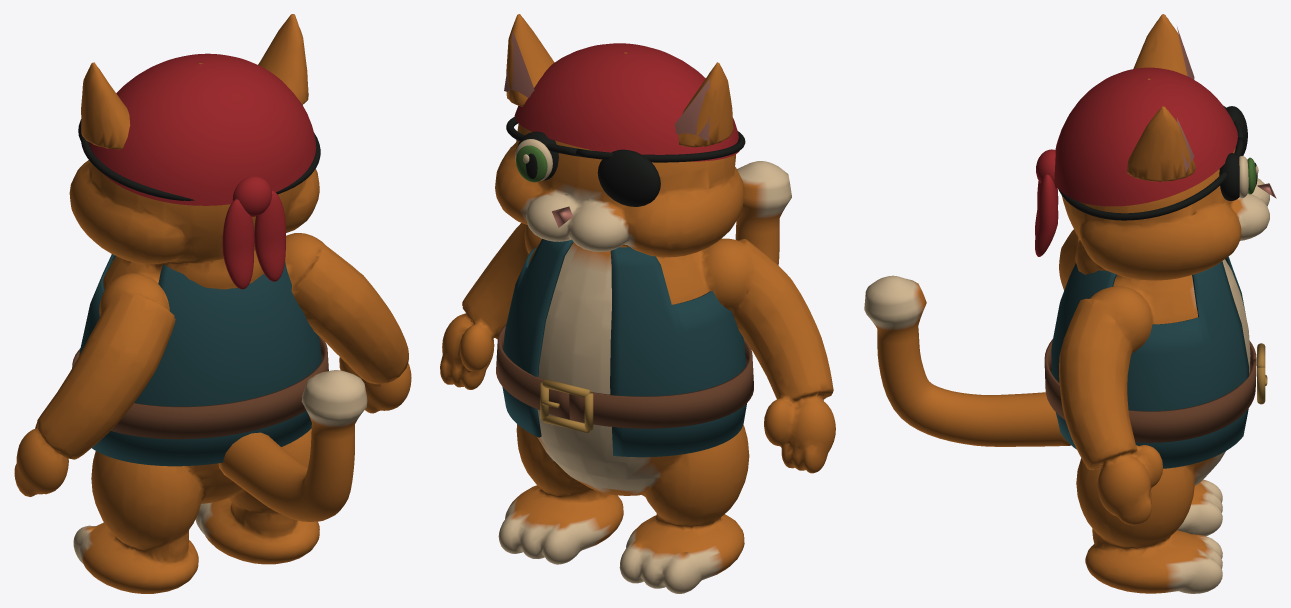
The picture shows the model from 3 angles, left to right: view 1: azimuth 30°, elevation 25°; view 2: azimuth 150°, elevation 25°; view 3: azimuth 270°, elevation 25°; orthographic projection. The views are drawn at different scales.
Size of the model in its own units: 0.9251 by 1.2 by 0.9025.
